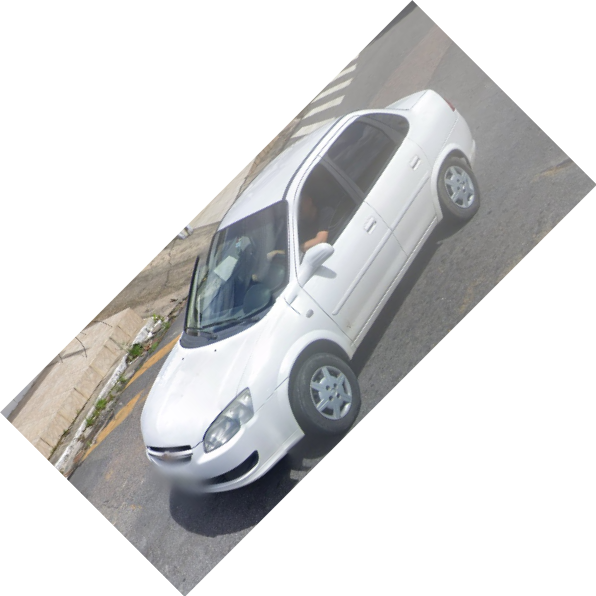car: (138, 86, 479, 500)
